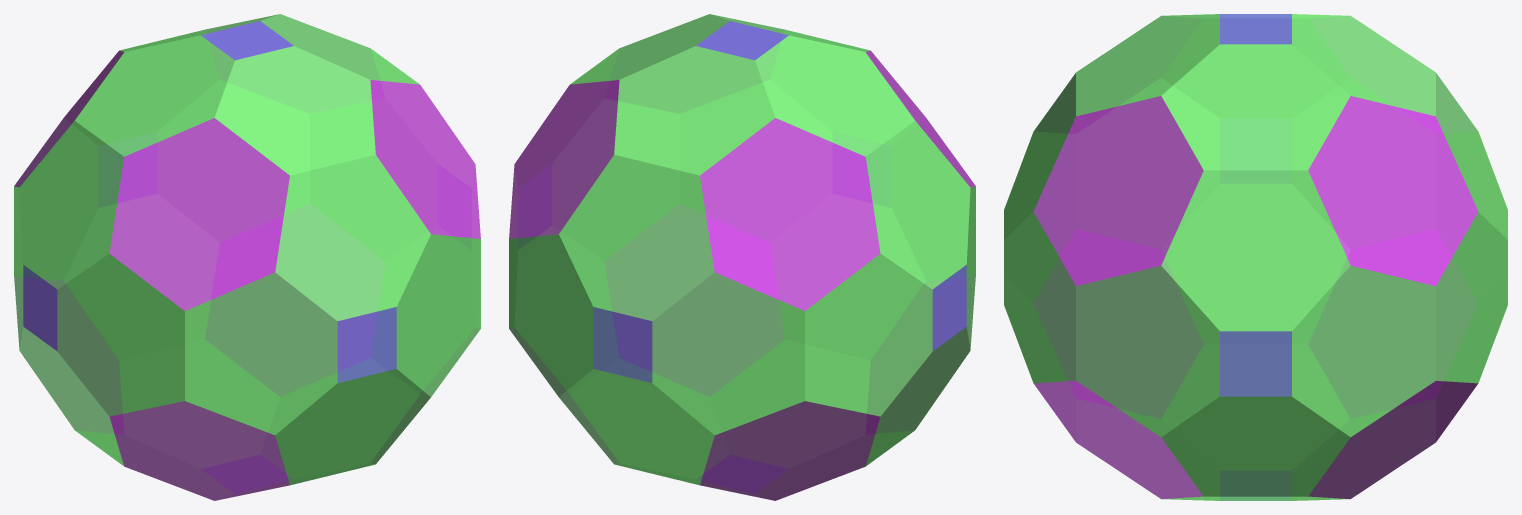
The model's file is TruncatedTetrakisHexahedron2.obj.
3 views of the same model, side by side, from view 1: azimuth 30°, elevation 25°; view 2: azimuth 150°, elevation 25°; view 3: azimuth 270°, elevation 25° (orthographic). The views are drawn at different scales.
Bounding box in the file's own units: 7 × 7 × 7.
